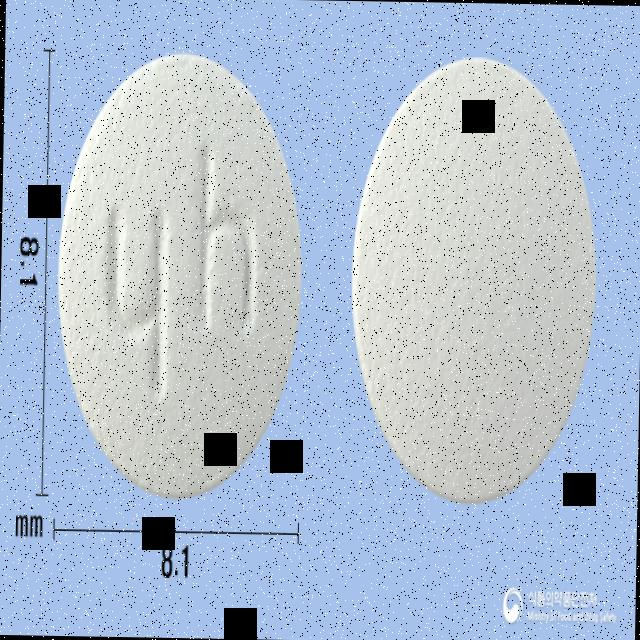Levomicin: (54, 48, 308, 500)
